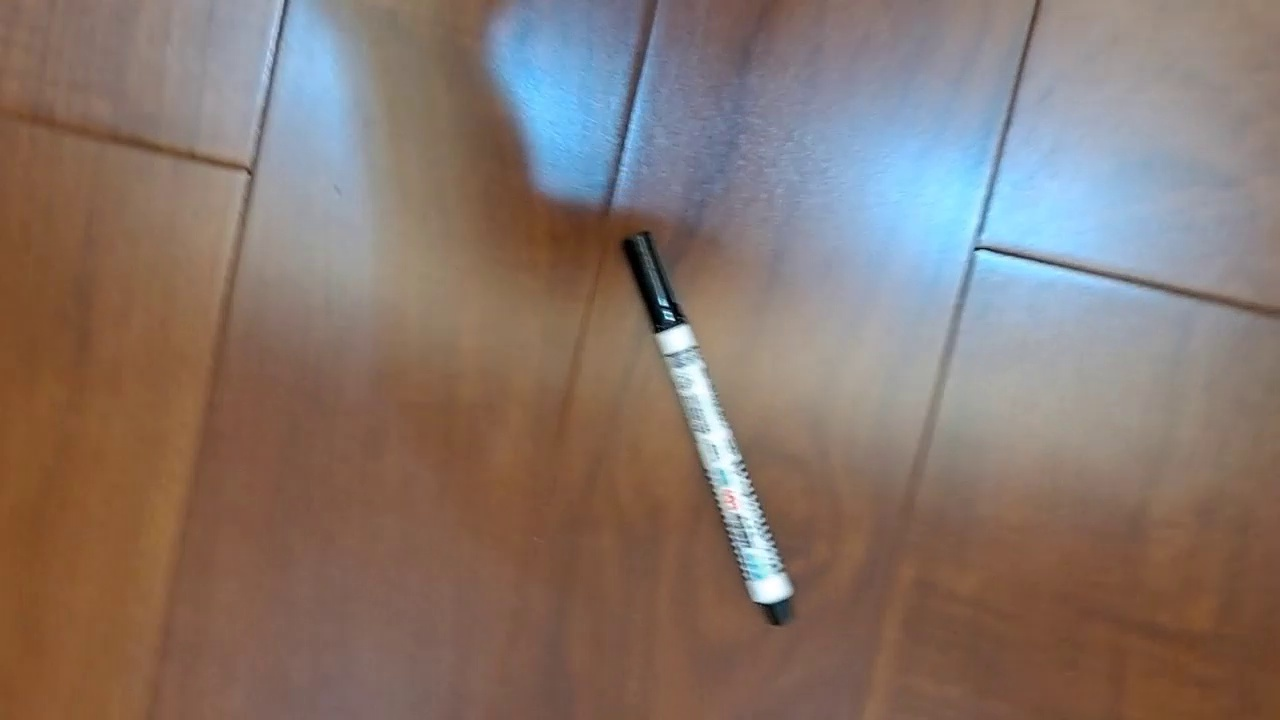pen: (618, 228, 798, 628)
